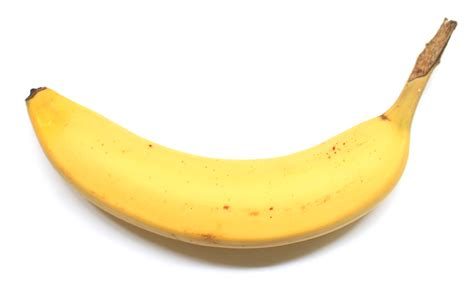banana: (25, 79, 413, 256)
